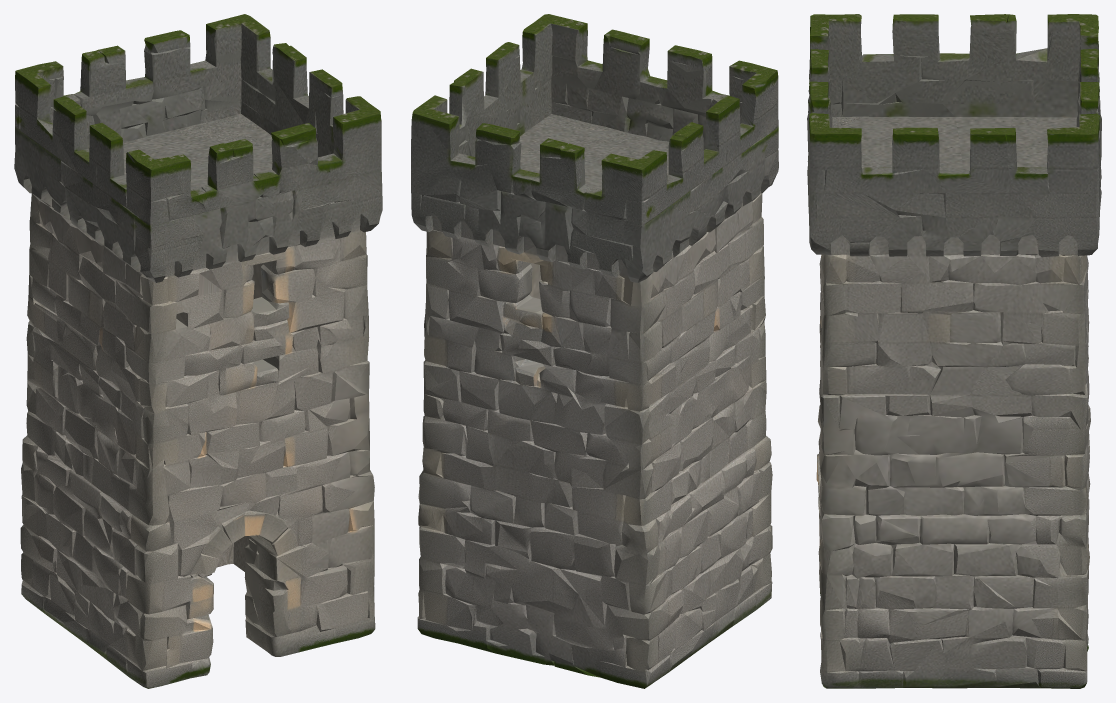
Rendered from tower.glb.
The picture shows the model from 3 angles, left to right: view 1: azimuth 30°, elevation 25°; view 2: azimuth 150°, elevation 25°; view 3: azimuth 270°, elevation 25°; orthographic projection. The views are drawn at different scales.
Bounding box in the file's own units: 0.8921 × 1.9 × 0.914.
1 material, 1 textured.
